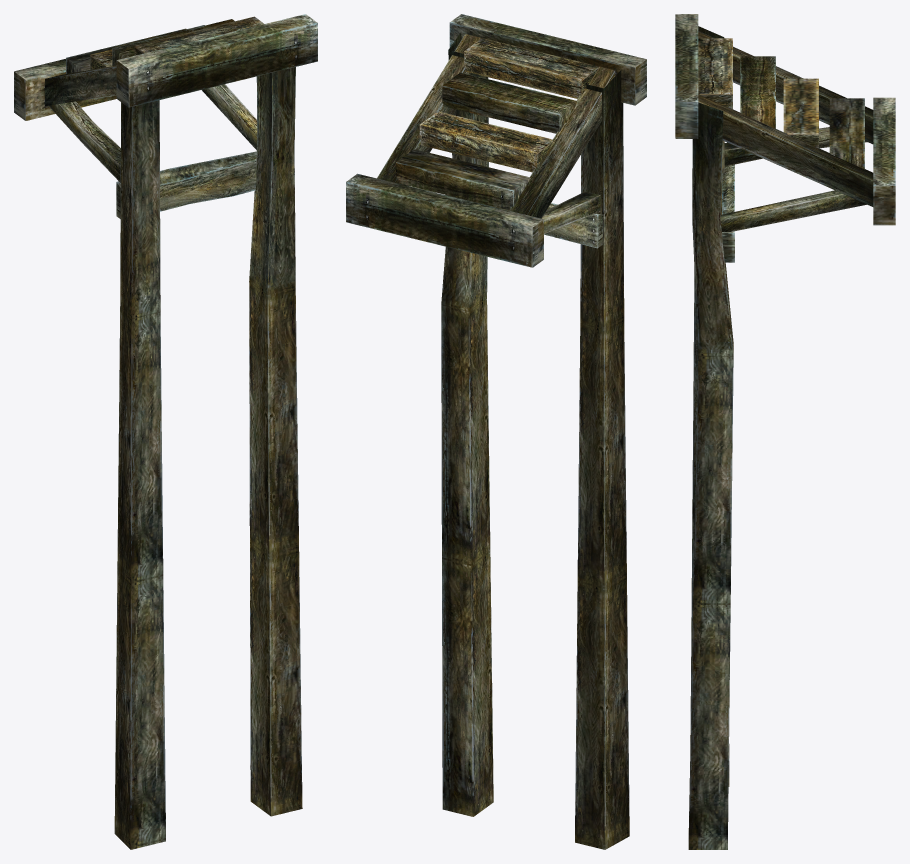
The model's file is most_8.glb.
3 renders of one model, left to right at view 1: azimuth 30°, elevation 25°; view 2: azimuth 150°, elevation 25°; view 3: azimuth 270°, elevation 25°, orthographic. The views are drawn at different scales.
Parts seen in each view (by area): view 1: most_8; view 2: most_8; view 3: most_8.
Part boxes in pixels (bbox=[...]): most_8: bbox=[14, 14, 317, 849]; most_8: bbox=[346, 14, 646, 849]; most_8: bbox=[675, 14, 895, 849].
Size of the model in its own units: 3.38 by 13.33 by 3.54.
5 materials, 5 textured.
